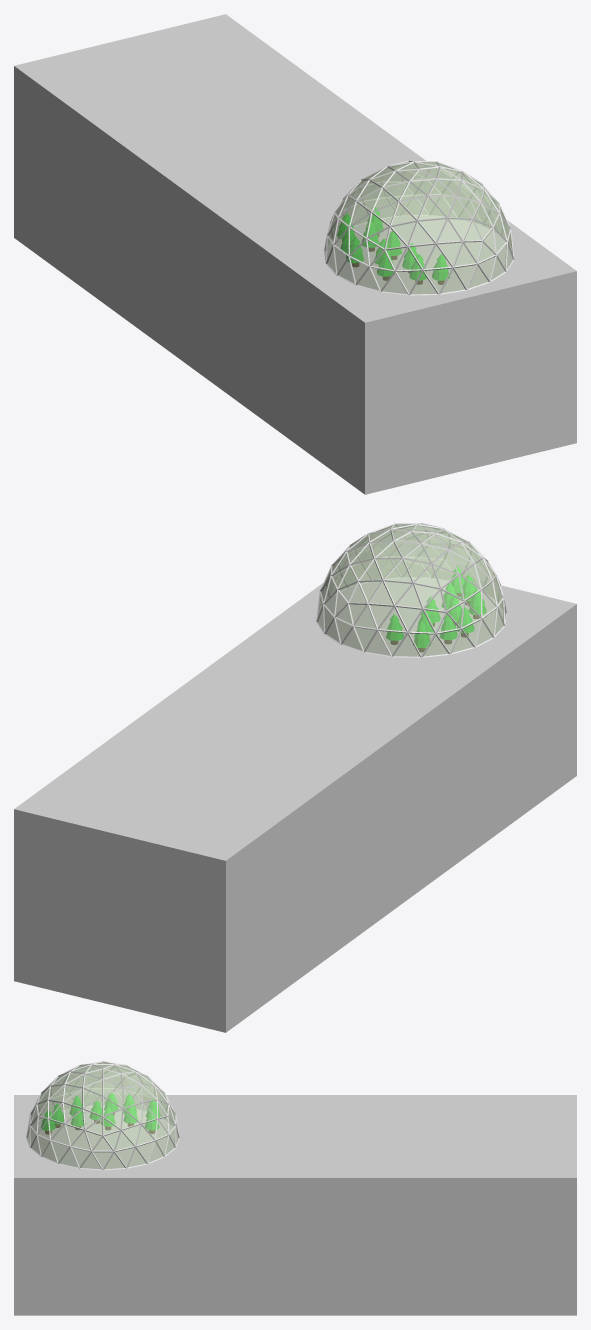
The model's file is background.glb.
3 views of the same model, one above another, from view 1: azimuth 30°, elevation 25°; view 2: azimuth 150°, elevation 25°; view 3: azimuth 270°, elevation 25° (orthographic). The views are drawn at different scales.
Visible parts, largest first — view 1: Cube, Icosphere.001, Icosphere; view 2: Cube, Icosphere.001, Icosphere; view 3: Cube, Icosphere.001, Icosphere.
Part boxes in pixels (box(x1,y1,x2,y2)): Cube: box(14, 14, 576, 494); Icosphere.001: box(325, 162, 512, 294); Icosphere: box(324, 160, 514, 295); Cube: box(14, 553, 576, 1032); Icosphere.001: box(318, 524, 505, 656); Icosphere: box(316, 523, 506, 657); Cube: box(14, 1095, 576, 1315); Icosphere.001: box(27, 1062, 178, 1169); Icosphere: box(26, 1061, 179, 1170).
Bounding box in the file's own units: 2.58 × 3.01 × 7.4.
